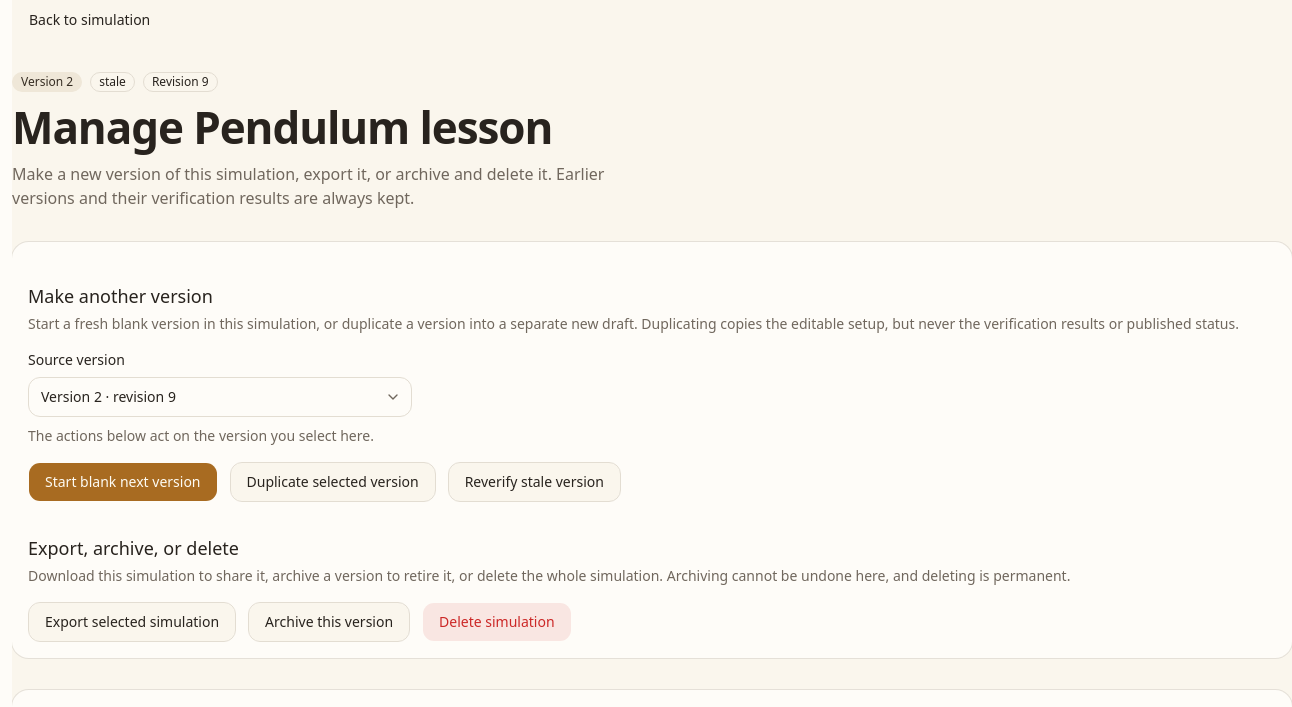
Scenario: simulation management page › uses the chosen source version permissions for copy actions
This screenshot has width=1292, height=707.
Check: the heading "Manage Pendulum lesson" is shown, box [12, 104, 607, 150]
Check: the button "Start blank next version" is shown, box [28, 462, 218, 502]
Click the dropdown named "Source version" at (67, 397), box [28, 377, 412, 417]
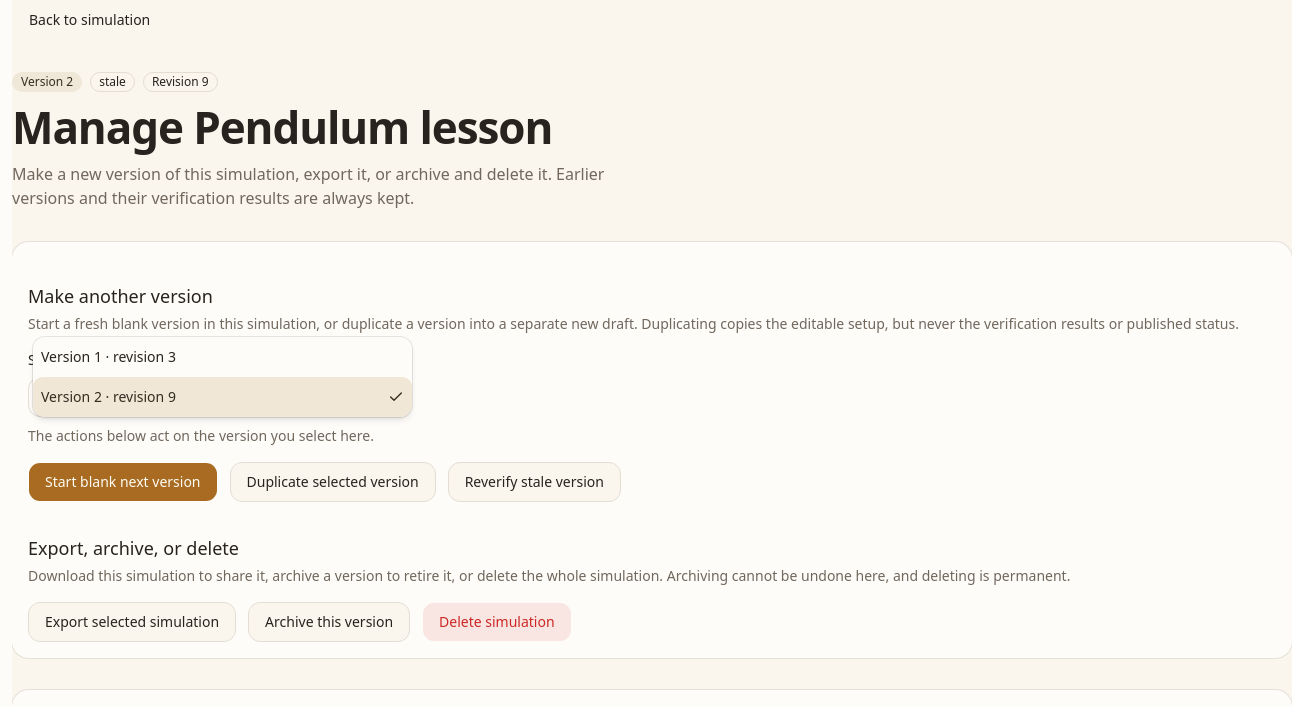
Click the option "Version 1 · revision 3" at (108, 357), box [41, 347, 176, 366]
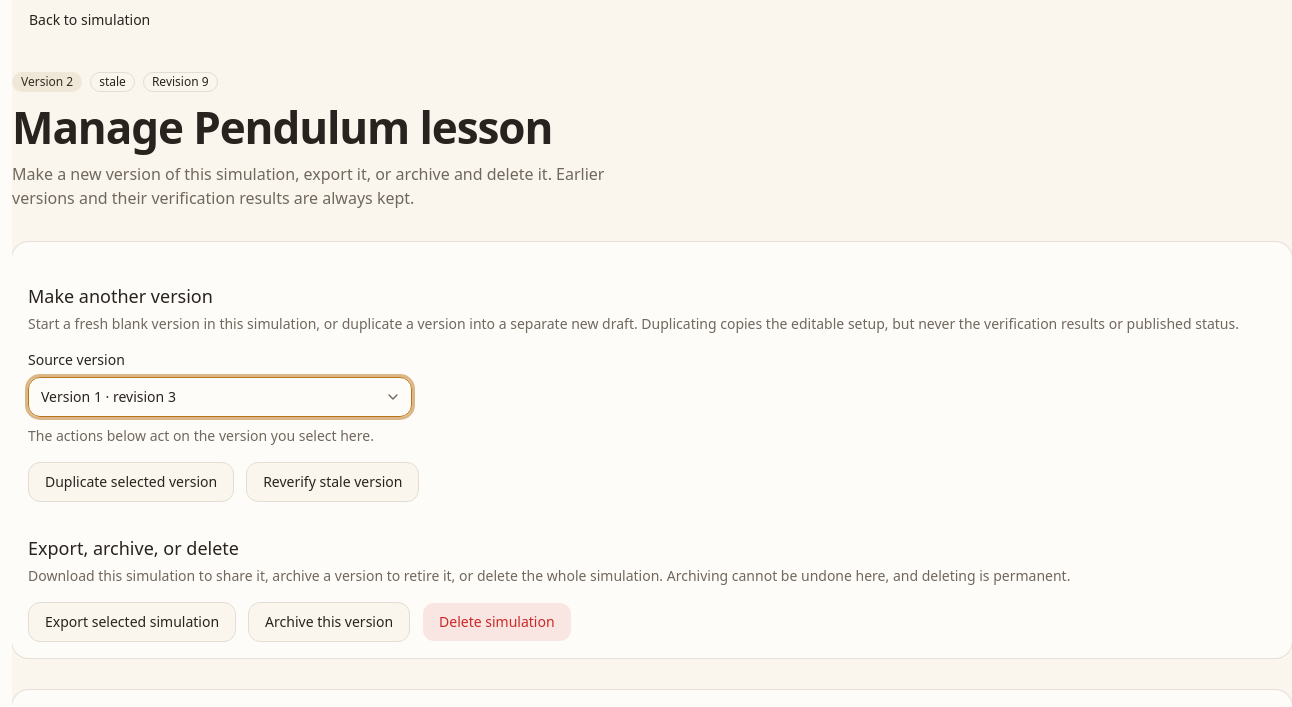
Check: the button "Duplicate selected version" is shown, box [28, 462, 234, 502]
Check: the button "Start blank next version" is gone
